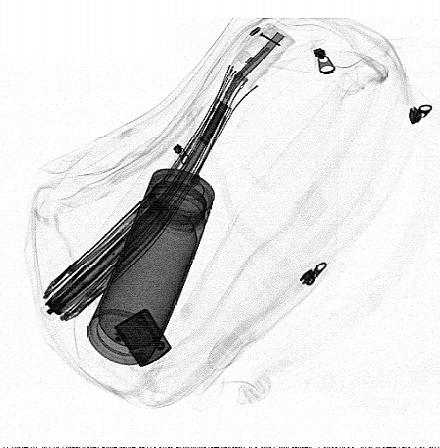Lighter: (113, 309, 172, 368)
